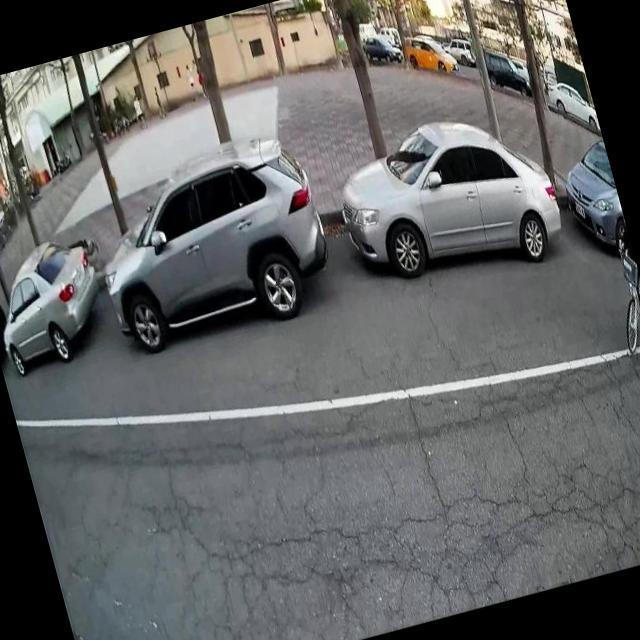person: (129, 90, 151, 134), (180, 58, 200, 102), (148, 80, 169, 121), (193, 64, 210, 101)
